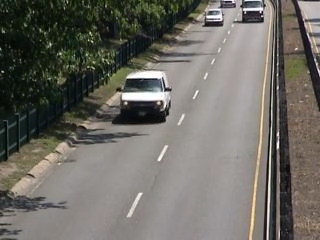car: (204, 9, 226, 28), (218, 1, 237, 9)
truck: (117, 69, 173, 121), (240, 1, 267, 23)
